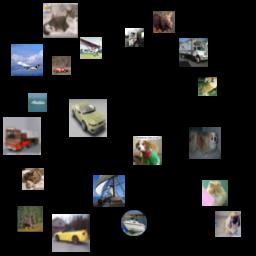airplane: (11, 44, 43, 76), (80, 37, 102, 59)
automobile: (69, 99, 107, 137), (52, 214, 90, 252), (52, 56, 71, 75)
cat: (43, 3, 78, 38), (202, 180, 228, 206), (22, 168, 44, 190)
deer: (17, 206, 43, 232), (153, 11, 175, 33)
dog: (189, 127, 221, 159), (133, 136, 162, 165), (215, 211, 241, 237), (198, 77, 217, 96)
ship: (93, 175, 125, 207), (121, 210, 147, 236), (28, 93, 47, 112)
truck: (3, 117, 41, 155), (179, 38, 208, 67), (125, 28, 144, 47)
